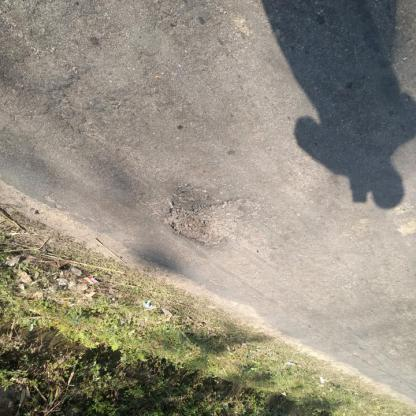pothole: (163, 196, 243, 251)
